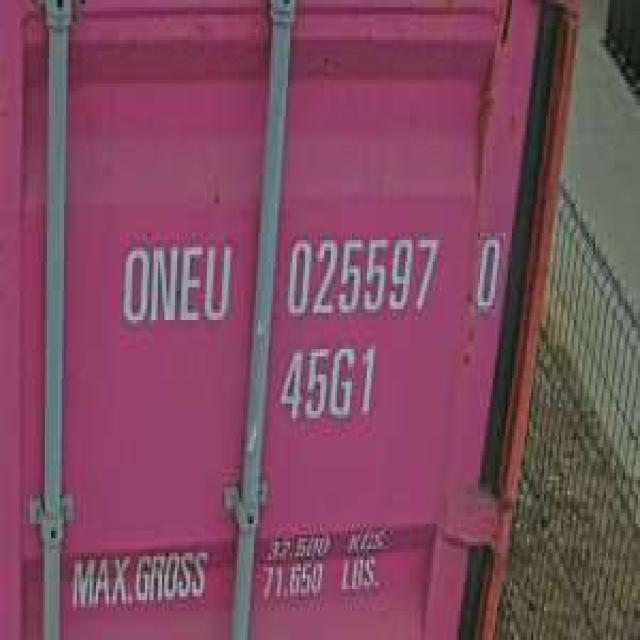dv: (469, 226, 504, 316)
owner: (113, 232, 235, 334)
serial: (279, 225, 444, 324)
size: (277, 334, 380, 426)
